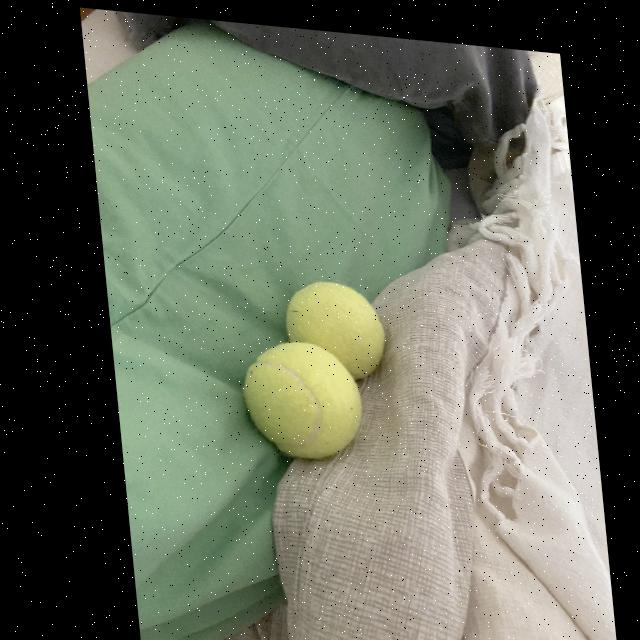Tennisball: (244, 342, 362, 459), (286, 282, 385, 380)
